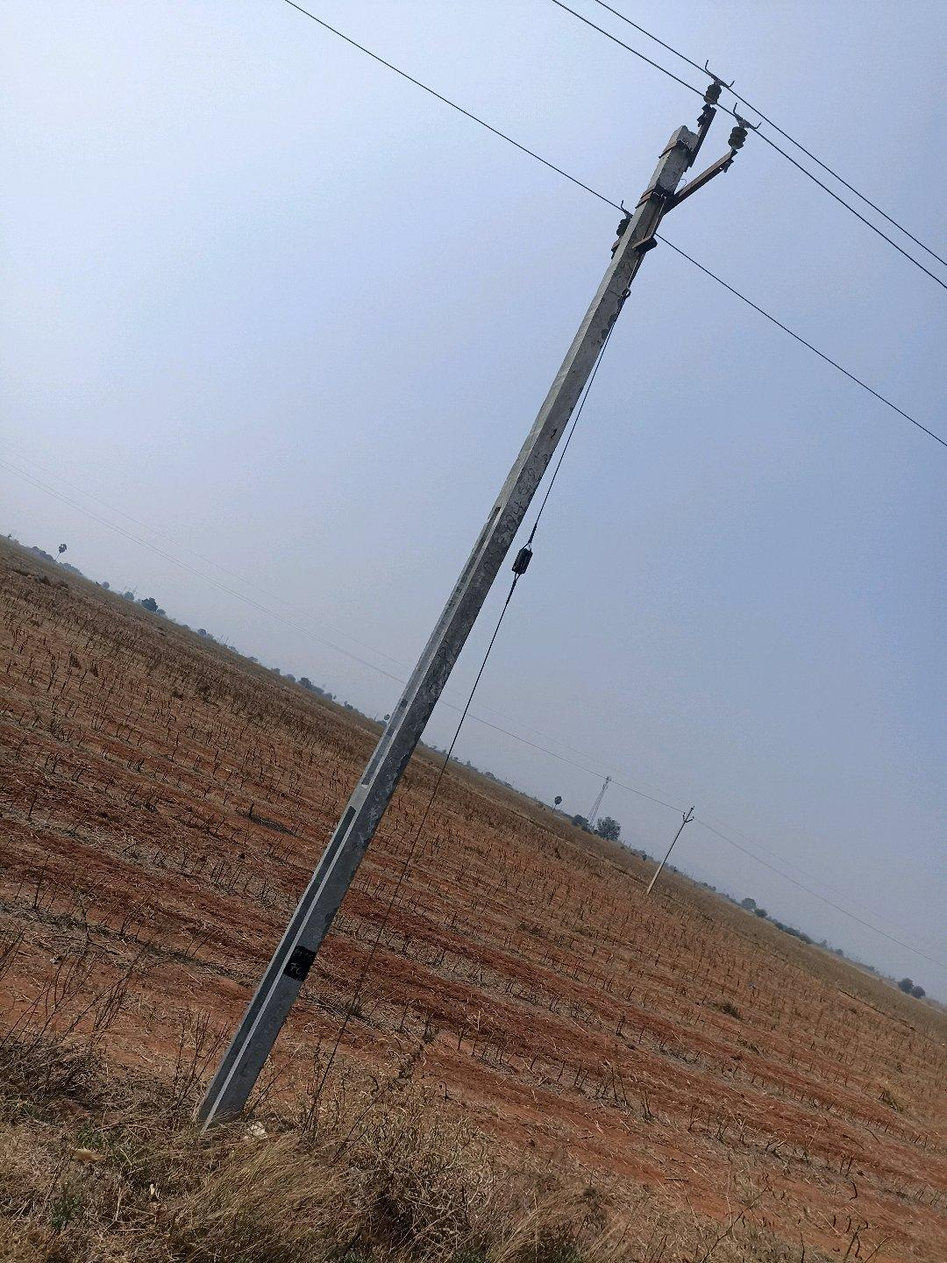{"0" "insulator", "1" "pole", "2" "crossarm", "3" "conductor", "4" "street_: (198, 79, 749, 1125)
